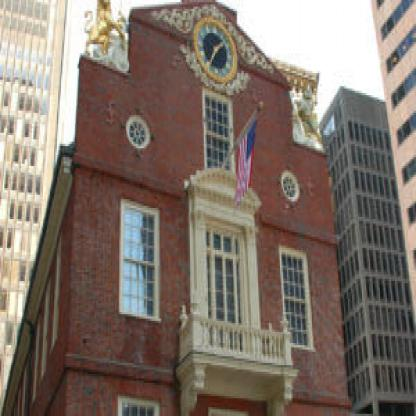State House: (38, 0, 361, 414)
